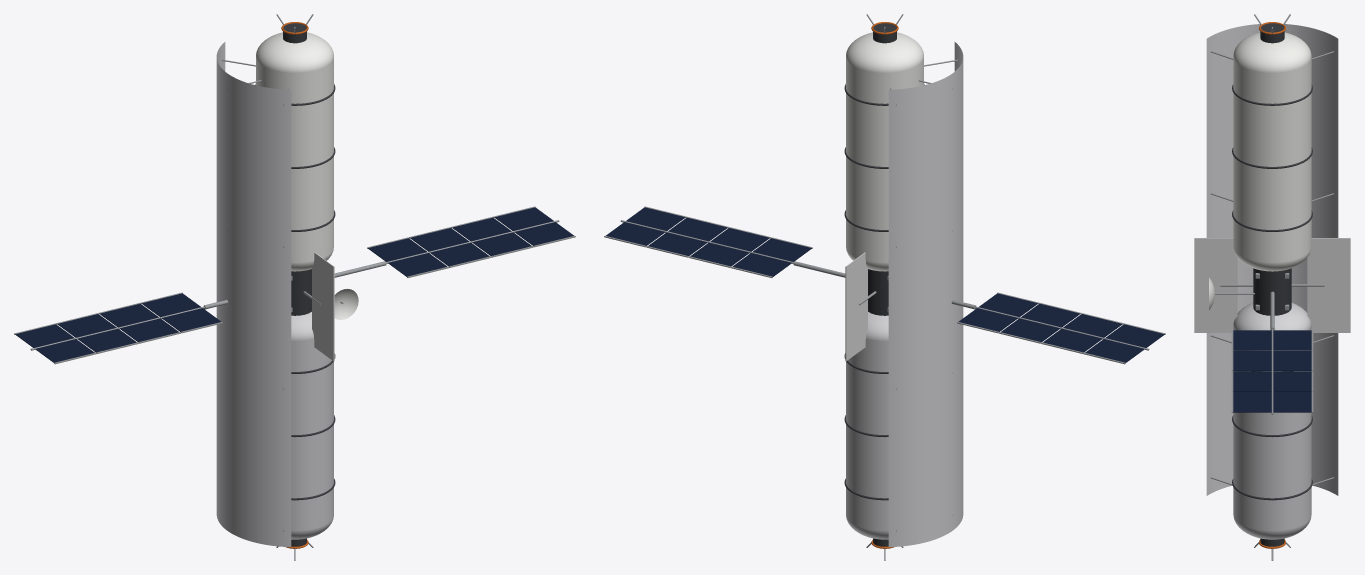
Rendered from OR02_propellant_depot.glb.
3 renders of one model, left to right at view 1: azimuth 30°, elevation 25°; view 2: azimuth 150°, elevation 25°; view 3: azimuth 270°, elevation 25°, orthographic.
Parts seen in each view (by area): view 1: sun_shade, propellant_tank (×2), solar_panel (×8), tank_dome, radiator, OR02_propellant_depot, core_module; view 2: sun_shade, propellant_tank (×2), solar_panel (×8), tank_dome, radiator, OR02_propellant_depot, core_module; view 3: propellant_tank (×2), sun_shade, radiator (×2), solar_panel (×4), tank_dome (×4), core_module, tank_ring (×5), OR02_propellant_depot, docking_port, array_spine.
Part boxes in pixels (<box>): sun_shade: <box>216,42,291,547</box>; propellant_tank (×2): <box>256,59,333,530</box>; solar_panel (×8): <box>15,207,573,362</box>; tank_dome: <box>256,32,333,73</box>; radiator: <box>312,252,334,361</box>; OR02_propellant_depot: <box>14,206,575,364</box>; core_module: <box>291,269,311,315</box>; sun_shade: <box>888,42,963,547</box>; propellant_tank (×2): <box>846,59,923,530</box>; solar_panel (×8): <box>606,207,1164,362</box>; tank_dome: <box>846,32,923,73</box>; radiator: <box>845,252,867,361</box>; OR02_propellant_depot: <box>604,206,1165,364</box>; core_module: <box>868,269,888,315</box>; propellant_tank (×2): <box>1233,58,1311,530</box>; sun_shade: <box>1206,24,1338,495</box>; radiator (×2): <box>1194,238,1350,332</box>; solar_panel (×4): <box>1233,330,1311,412</box>; tank_dome (×4): <box>1233,32,1311,539</box>; core_module: <box>1253,268,1291,315</box>; tank_ring (×5): <box>1232,84,1312,500</box>; OR02_propellant_depot: <box>1231,330,1313,412</box>; docking_port: <box>1260,23,1284,43</box>; array_spine: <box>1271,328,1273,414</box>.
Size of the model in its own units: 70 by 67.7 by 18.
